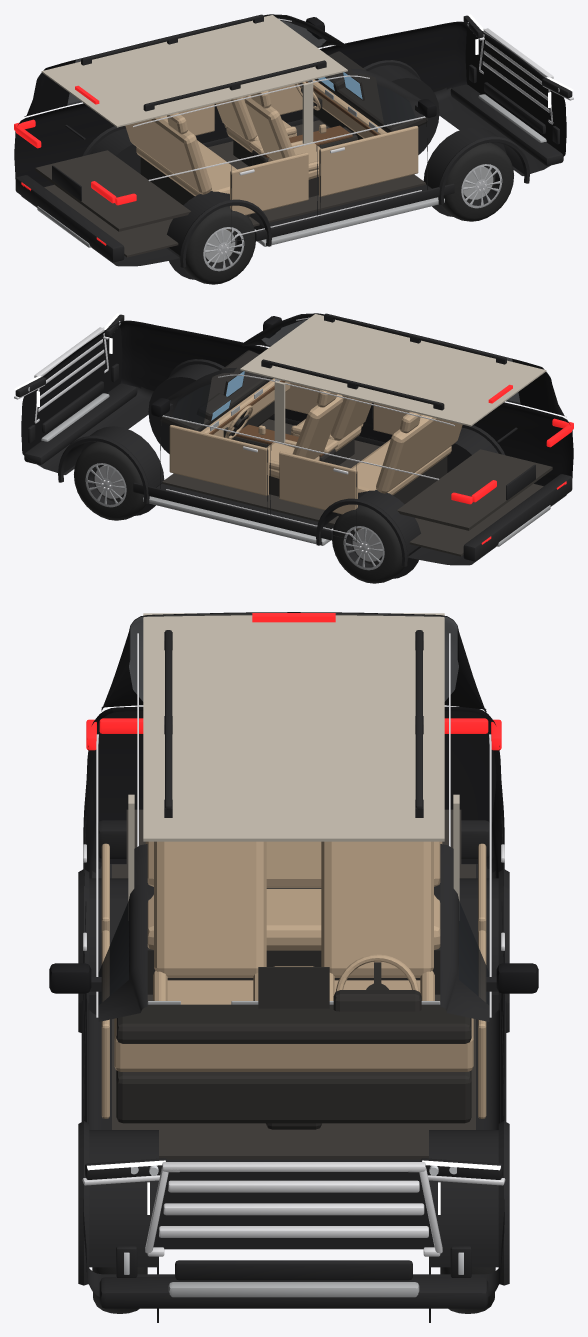
3 views of the same model, one above another, from view 1: azimuth 30°, elevation 25°; view 2: azimuth 150°, elevation 25°; view 3: azimuth 270°, elevation 25° (orthographic). The views are drawn at different scales.
Visible parts, largest first — view 1: interior, body, door_FR, door_RR, wheel_RR, wheel_FR, greenhouse, glass, door_FL, door_RL, tailgate; view 2: interior, body, door_FL, door_RL, wheel_RL, wheel_FL, greenhouse, door_FR, glass, door_RR, tailgate, steering; view 3: interior, body, greenhouse, door_RL, door_RR, glass, door_FL, door_FR, tailgate, steering.
Boxes of the visible parts, x1=… form: interior: x1=35, y1=15, x2=427, y2=257; body: x1=14, y1=14, x2=573, y2=279; door_FR: x1=308, y1=75, x2=436, y2=210; door_RR: x1=219, y1=83, x2=319, y2=236; wheel_RR: x1=178, y1=206, x2=255, y2=284; wheel_FR: x1=441, y1=142, x2=513, y2=221; greenhouse: x1=24, y1=14, x2=423, y2=117; glass: x1=40, y1=24, x2=415, y2=125; door_FL: x1=219, y1=15, x2=323, y2=139; door_RL: x1=143, y1=34, x2=214, y2=143; tailgate: x1=32, y1=74, x2=91, y2=201; interior: x1=160, y1=314, x2=552, y2=556; body: x1=14, y1=313, x2=573, y2=578; door_FL: x1=151, y1=374, x2=279, y2=509; door_RL: x1=268, y1=382, x2=368, y2=535; wheel_RL: x1=332, y1=505, x2=409, y2=583; wheel_FL: x1=74, y1=441, x2=146, y2=520; greenhouse: x1=164, y1=313, x2=564, y2=416; door_FR: x1=264, y1=314, x2=368, y2=438; glass: x1=172, y1=323, x2=547, y2=424; door_RR: x1=373, y1=333, x2=444, y2=442; tailgate: x1=496, y1=373, x2=555, y2=500; steering: x1=225, y1=405, x2=252, y2=438; interior: x1=112, y1=613, x2=475, y2=1159; body: x1=78, y1=613, x2=509, y2=1322; greenhouse: x1=98, y1=612, x2=489, y2=1021; door_RL: x1=437, y1=721, x2=509, y2=1042; door_RR: x1=78, y1=721, x2=150, y2=1042; glass: x1=98, y1=613, x2=489, y2=1004; door_FL: x1=449, y1=802, x2=538, y2=1122; door_FR: x1=49, y1=802, x2=138, y2=1122; tailgate: x1=111, y1=619, x2=475, y2=712; steering: x1=336, y1=954, x2=419, y2=991.
Size of the model in its own units: 5.08 by 1.97 by 2.34.
